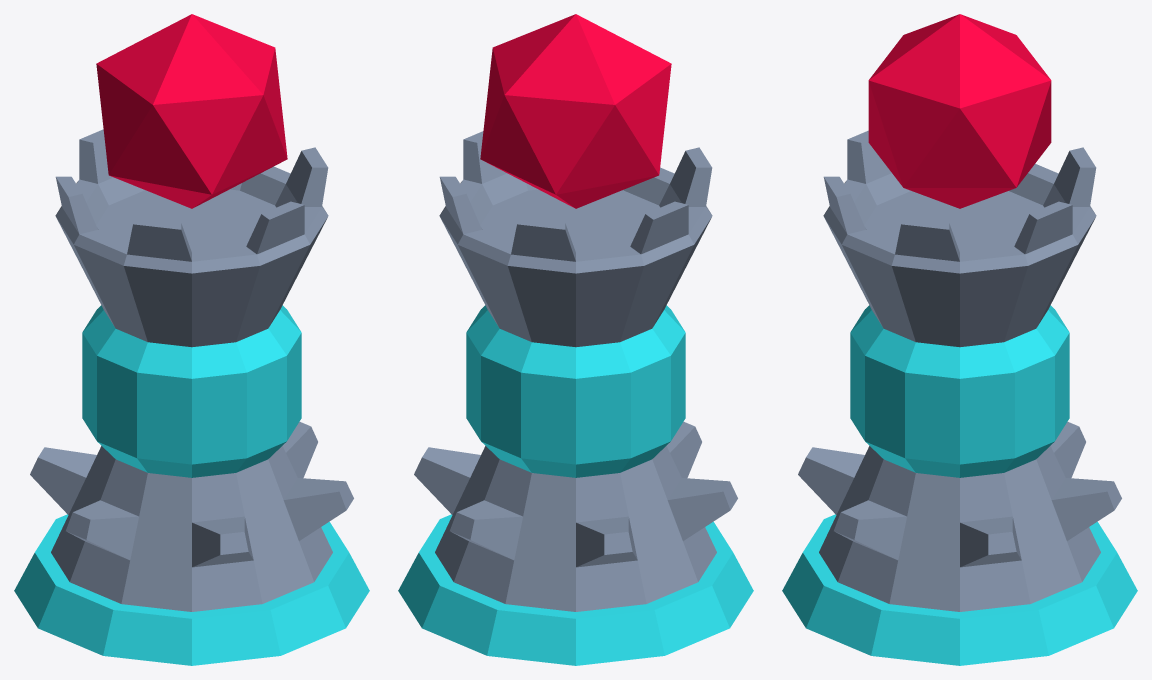
Rendered from TD Tower.fbx.
The picture shows the model from 3 angles, left to right: view 1: azimuth 30°, elevation 25°; view 2: azimuth 150°, elevation 25°; view 3: azimuth 270°, elevation 25°; orthographic projection.
Visible parts, largest first — view 1: Cylinder, Icosphere; view 2: Cylinder, Icosphere; view 3: Cylinder, Icosphere.
Boxes of the visible parts, x1,y1,x2,y2 form: Cylinder: (14,129,369,665); Icosphere: (96,14,287,208); Cylinder: (398,131,753,665); Icosphere: (480,14,671,208); Cylinder: (782,130,1137,665); Icosphere: (868,14,1051,208).
Bounding box in the file's own units: 252 × 451 × 252.
